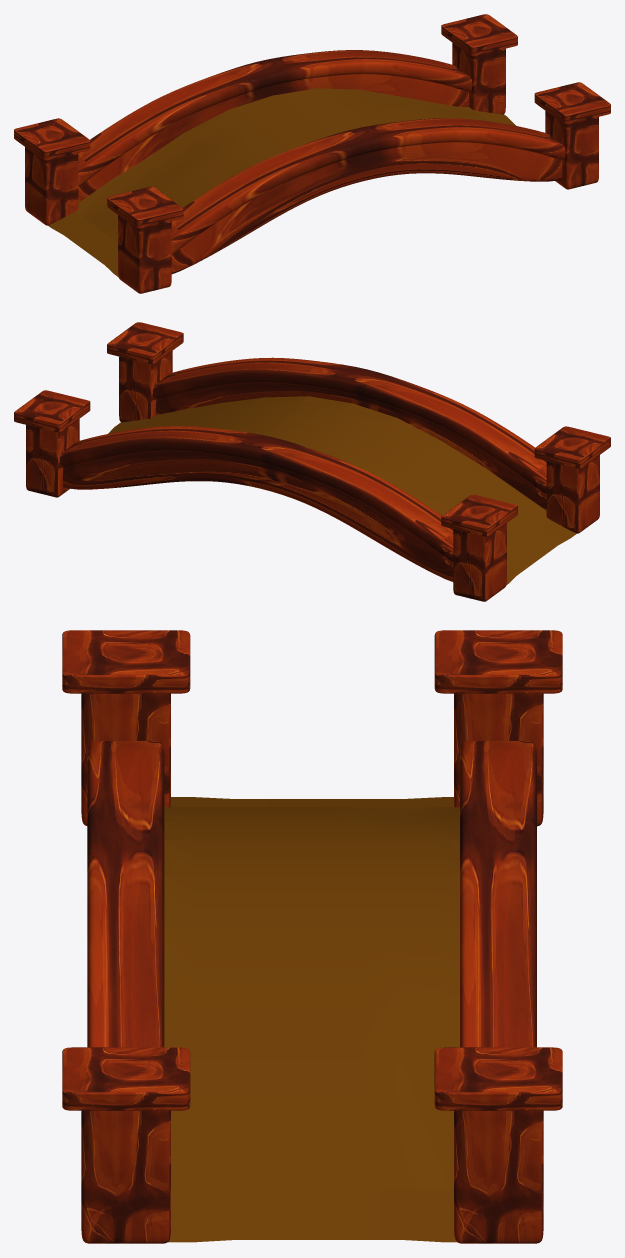
Rendered from BRIDGE.fbx.
3 views of the same model, one above another, from view 1: azimuth 30°, elevation 25°; view 2: azimuth 150°, elevation 25°; view 3: azimuth 270°, elevation 25° (orthographic). The views are drawn at different scales.
Parts seen in each view (by area): view 1: pCube1, polySurface12, polySurface11, polySurface5, polySurface6, polySurface7, polySurface1, polySurface9, polySurface3, polySurface4, polySurface8, polySurface10 (+1 smaller); view 2: pCube1, polySurface5, polySurface11, polySurface6, polySurface12, polySurface1, polySurface7, polySurface3, polySurface9, polySurface10, polySurface8, polySurface2 (+1 smaller); view 3: pCube1, polySurface11, polySurface5, polySurface9, polySurface3, polySurface10, polySurface4, polySurface8, polySurface2, polySurface7, polySurface1.
Part boxes in pixels (x1,y1,x2,y2): pCube1: [48, 88, 516, 276]; polySurface12: [171, 142, 562, 274]; polySurface11: [171, 118, 565, 254]; polySurface5: [78, 50, 472, 186]; polySurface6: [78, 74, 469, 202]; polySurface7: [118, 215, 171, 293]; polySurface1: [25, 147, 78, 225]; polySurface9: [545, 111, 598, 189]; polySurface3: [452, 43, 505, 114]; polySurface4: [441, 14, 517, 56]; polySurface8: [107, 186, 183, 228]; polySurface10: [534, 82, 610, 124]; pCube1: [108, 396, 576, 584]; polySurface5: [60, 426, 453, 562]; polySurface11: [153, 357, 546, 494]; polySurface6: [63, 451, 453, 581]; polySurface12: [156, 382, 546, 510]; polySurface1: [453, 523, 506, 601]; polySurface7: [546, 455, 599, 533]; polySurface3: [26, 419, 79, 497]; polySurface9: [119, 351, 172, 422]; polySurface10: [107, 322, 183, 364]; polySurface8: [534, 426, 610, 468]; polySurface2: [441, 494, 517, 536]; pCube1: [164, 797, 459, 1242]; polySurface11: [87, 741, 164, 1047]; polySurface5: [460, 741, 536, 1047]; polySurface9: [81, 1110, 170, 1243]; polySurface3: [454, 1110, 543, 1243]; polySurface10: [62, 1047, 190, 1110]; polySurface4: [434, 1047, 562, 1110]; polySurface8: [62, 630, 190, 693]; polySurface2: [434, 630, 562, 693]; polySurface7: [81, 693, 170, 825]; polySurface1: [454, 693, 543, 826].
Bounding box in the file's own units: 24.14 × 4.63 × 11.02.
Materials: 9 (8 with a texture image).
